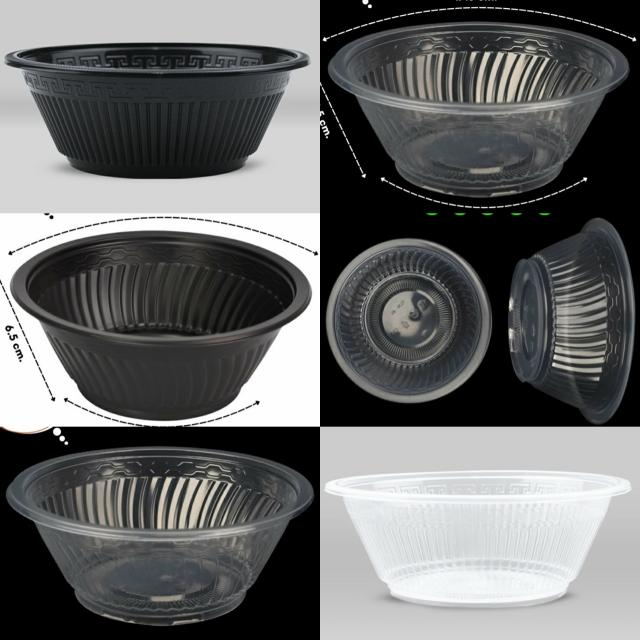Single-Use-Plastic: (11, 231, 311, 420), (6, 448, 314, 625), (328, 22, 629, 198), (325, 470, 630, 607), (6, 44, 309, 178), (327, 239, 492, 402), (508, 219, 634, 424)
